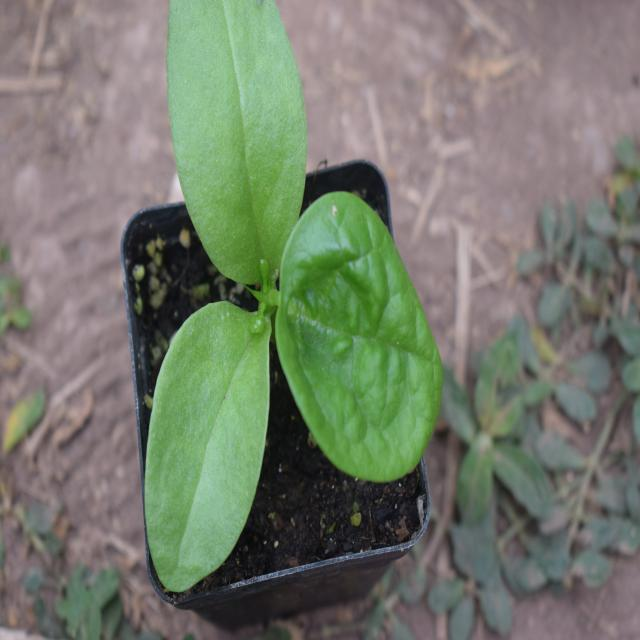Ceylon spinach: (160, 0, 441, 579)
